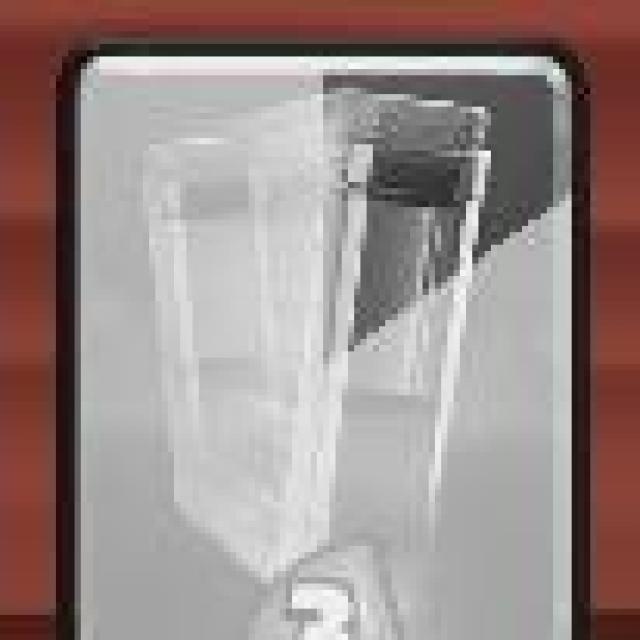Clone_Spell: (46, 32, 602, 640)
